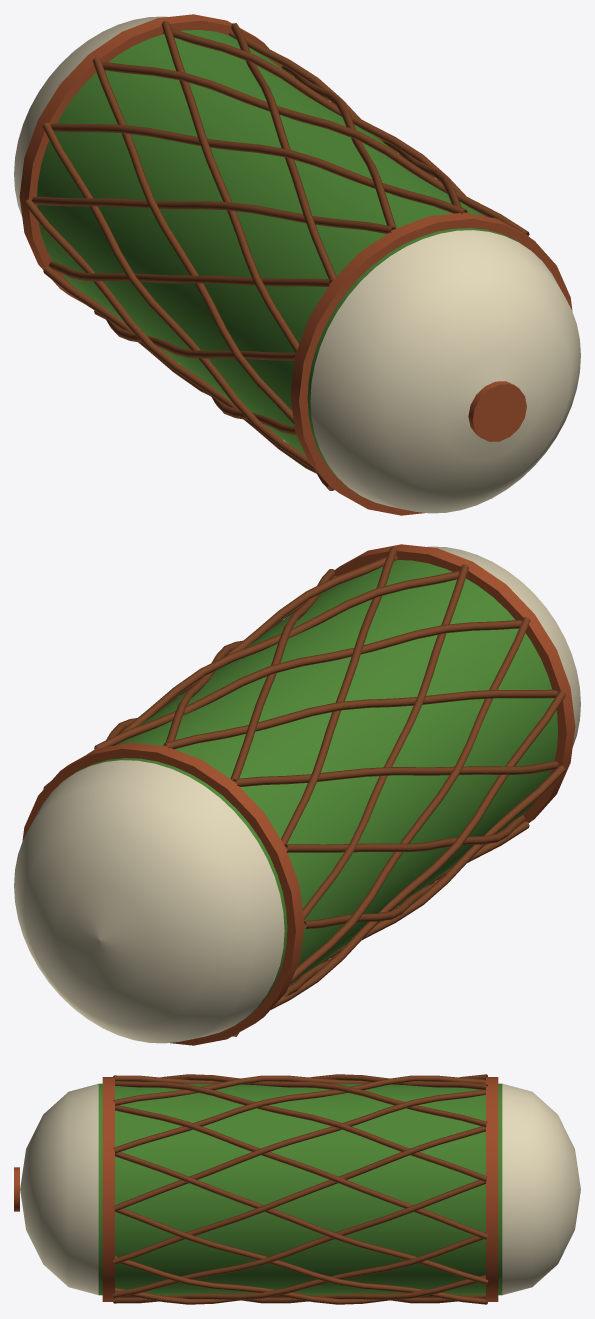
File: u500_scrubber.obj
3 renders of one model, top to bottom at view 1: azimuth 30°, elevation 25°; view 2: azimuth 150°, elevation 25°; view 3: azimuth 270°, elevation 25°, orthographic. The views are drawn at different scales.
Parts seen in each view (by area): view 1: u500_scrubber; view 2: u500_scrubber; view 3: u500_scrubber.
Boxes of the visible parts, box(x1,y1,x2,y2) form: u500_scrubber: box(14, 14, 580, 515); u500_scrubber: box(14, 544, 580, 1045); u500_scrubber: box(14, 1074, 580, 1304).
Bounding box in the file's own units: 2.29 × 2.29 × 5.62.
